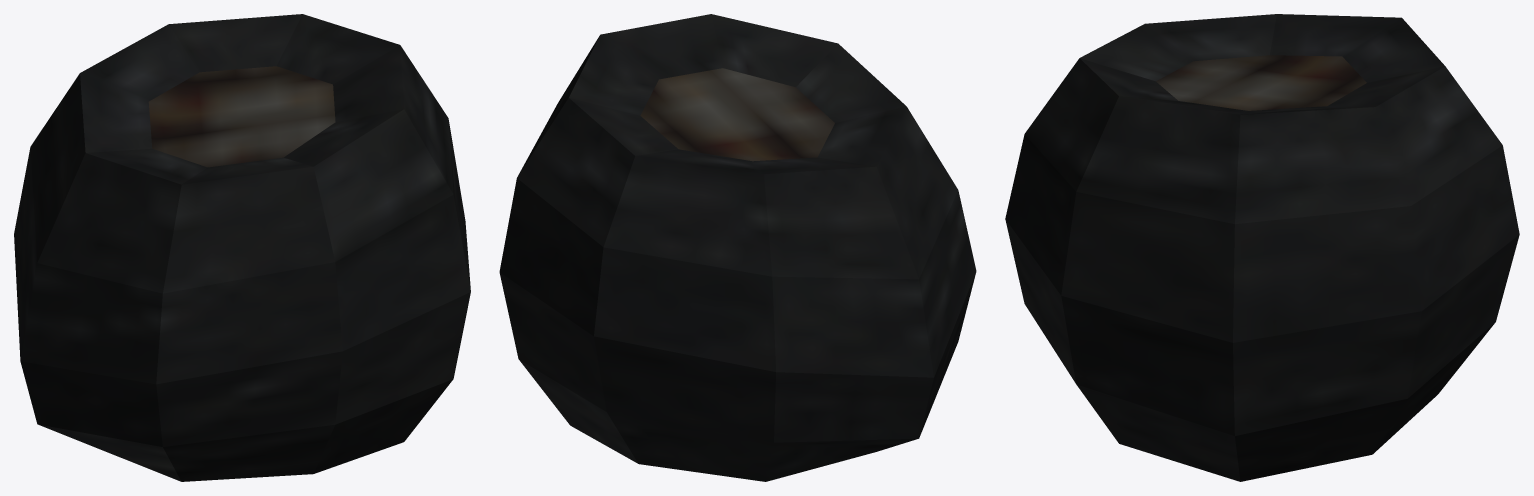
The model's file is SM_EC_KitchenBin_TrashBag_1.fbx.
3 views of the same model, side by side, from view 1: azimuth 30°, elevation 25°; view 2: azimuth 150°, elevation 25°; view 3: azimuth 270°, elevation 25° (orthographic). The views are drawn at different scales.
Parts seen in each view (by area): view 1: SM_EC_KitchenBin_TrashBag_1; view 2: SM_EC_KitchenBin_TrashBag_1; view 3: SM_EC_KitchenBin_TrashBag_1.
Boxes of the visible parts, x1,y1,x2,y2 form: SM_EC_KitchenBin_TrashBag_1: (14, 14, 470, 481); SM_EC_KitchenBin_TrashBag_1: (499, 14, 976, 481); SM_EC_KitchenBin_TrashBag_1: (1005, 14, 1519, 481).
Bounding box in the file's own units: 0.4974 × 0.5048 × 0.3974.
